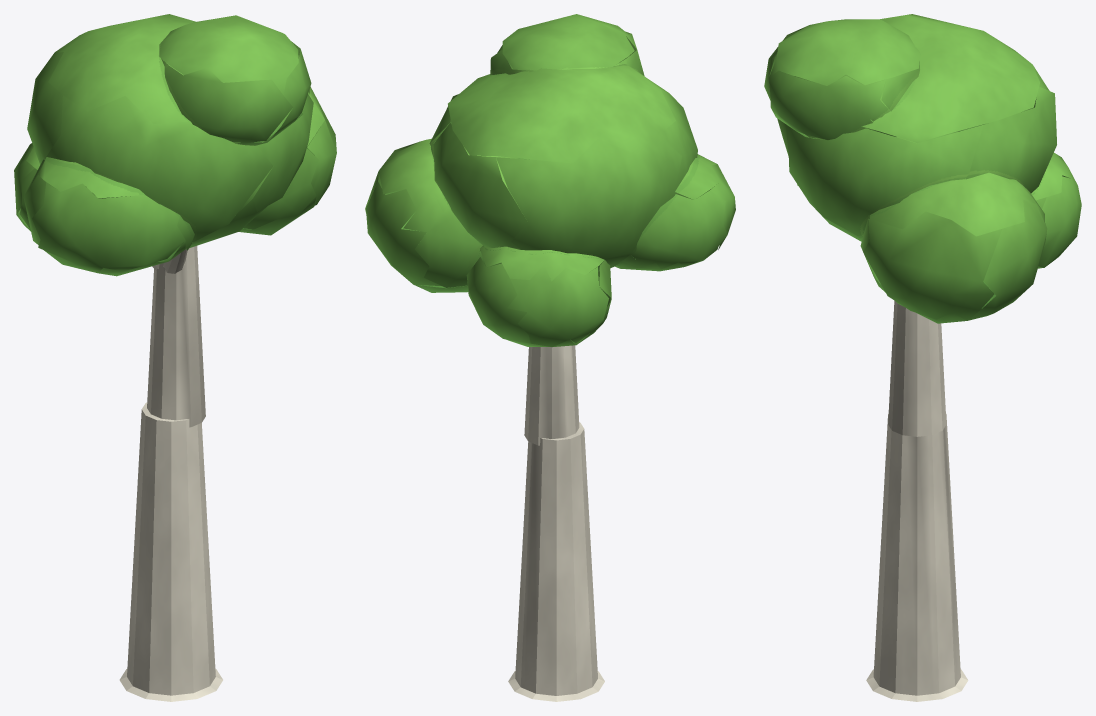
The model's file is broadleaf_a.hi.glb.
The picture shows the model from 3 angles, left to right: view 1: azimuth 30°, elevation 25°; view 2: azimuth 150°, elevation 25°; view 3: azimuth 270°, elevation 25°; orthographic projection. The views are drawn at different scales.
Visible parts, largest first — view 1: broadleaf; view 2: broadleaf; view 3: broadleaf.
Part boxes in pixels (x1,y1,x2,y2): broadleaf: (14, 14, 336, 701); broadleaf: (365, 14, 735, 701); broadleaf: (764, 14, 1081, 701).
Size of the model in its own units: 4.12 by 7.98 by 3.48.
1 material, 1 textured.
